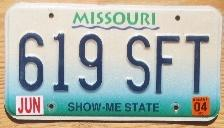1: (50, 31, 73, 94)
6: (17, 30, 46, 92)
9: (78, 32, 106, 92)
F: (155, 33, 182, 96)
S: (124, 33, 152, 94)
T: (183, 34, 211, 95)
